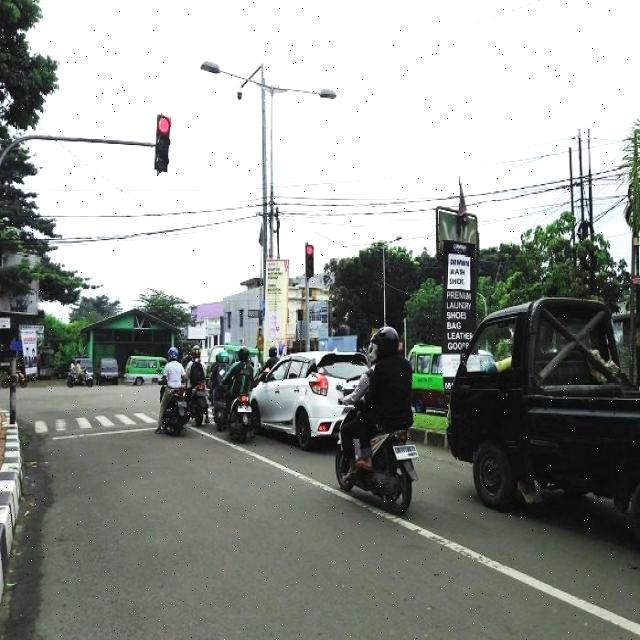Czerwone swiatlo: (155, 115, 170, 175), (306, 244, 315, 280)
